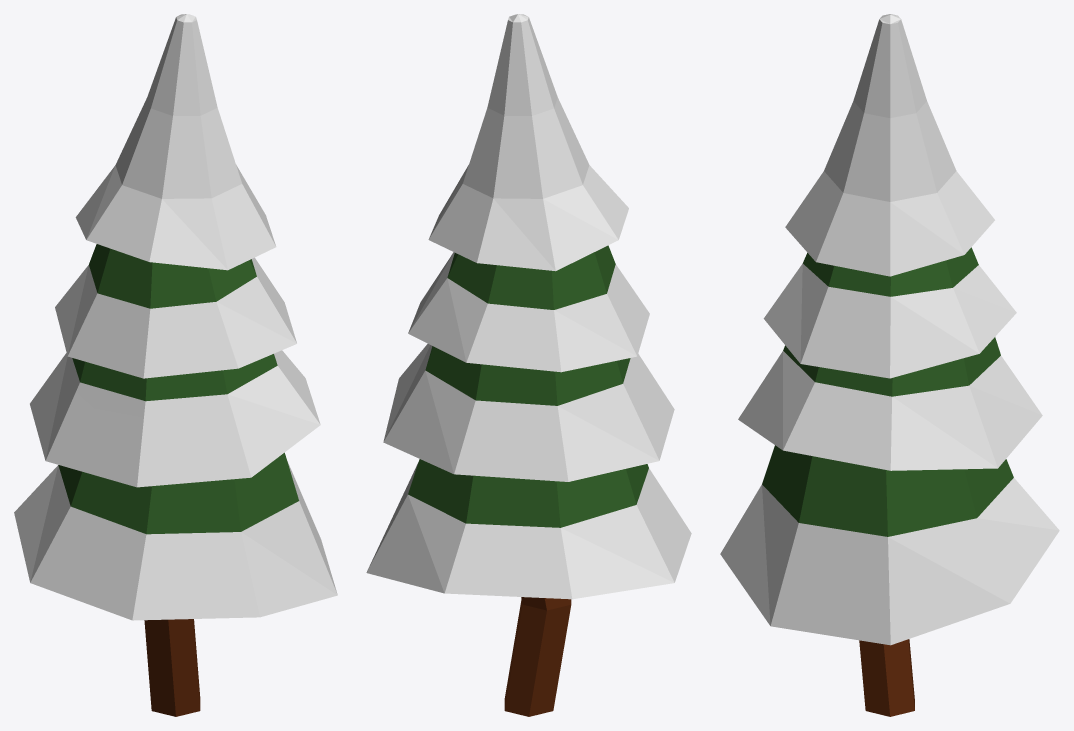
File: snowTree.glb
The picture shows the model from 3 angles, left to right: view 1: azimuth 30°, elevation 25°; view 2: azimuth 150°, elevation 25°; view 3: azimuth 270°, elevation 25°; orthographic projection.
Parts seen in each view (by area): view 1: Tree_temp_climate_018; view 2: Tree_temp_climate_018; view 3: Tree_temp_climate_018.
Boxes of the visible parts, <box> form: Tree_temp_climate_018: <box>14,14,337,716</box>; Tree_temp_climate_018: <box>366,14,691,716</box>; Tree_temp_climate_018: <box>720,14,1059,716</box>.
Bounding box in the file's own units: 2.42 × 5.48 × 2.42.
Materials: 2 (1 with a texture image).
